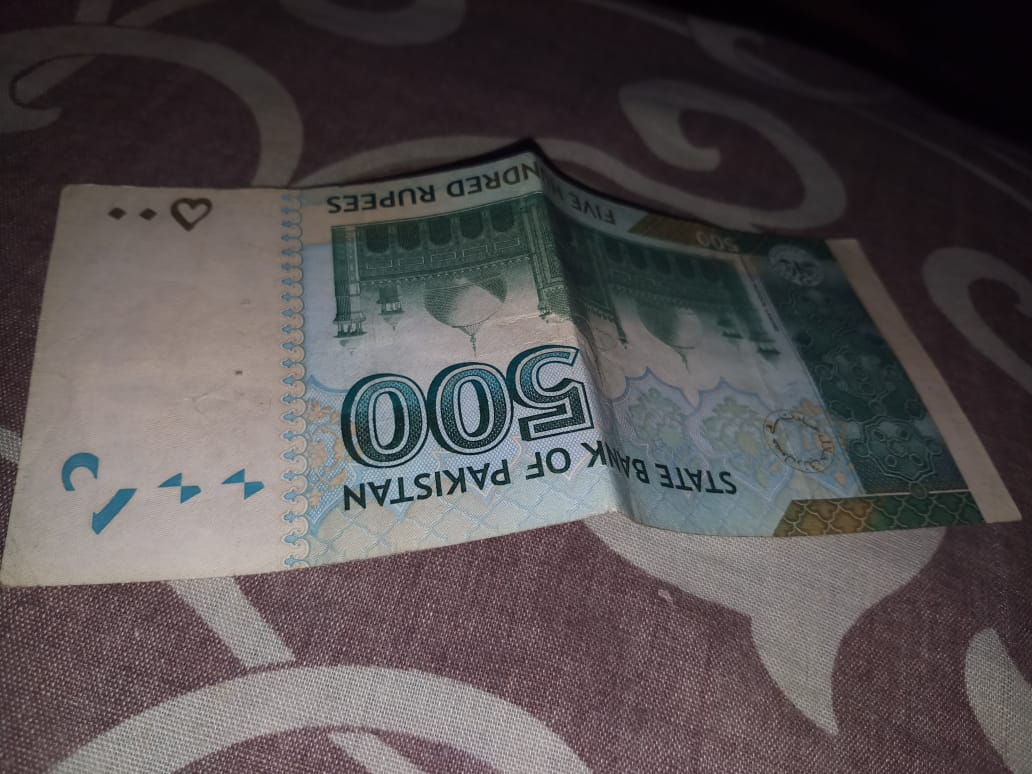500 rupee: (24, 133, 1008, 614)
